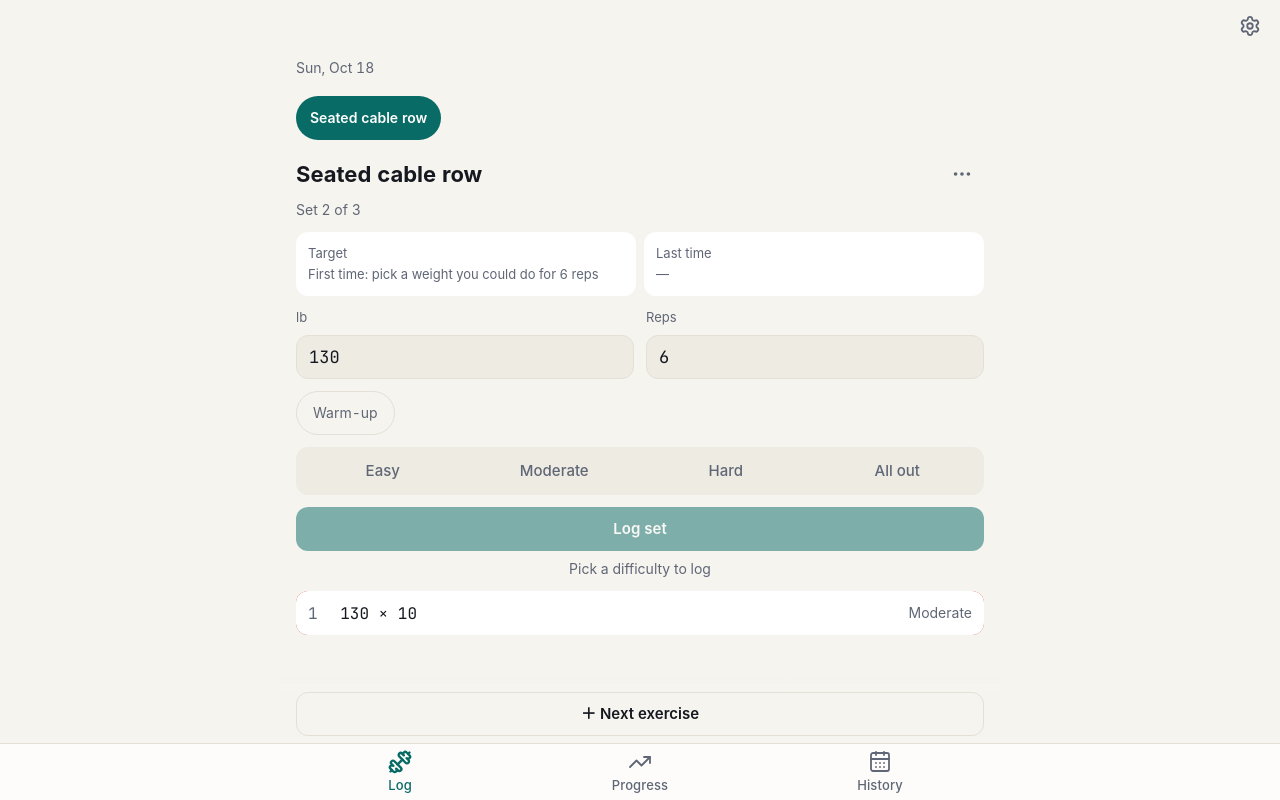
fixing a set › Cancel changes nothing
Click the button "1 130 × 10 Moderate" at (379, 613), box x1=296 y1=591 x2=984 y2=635
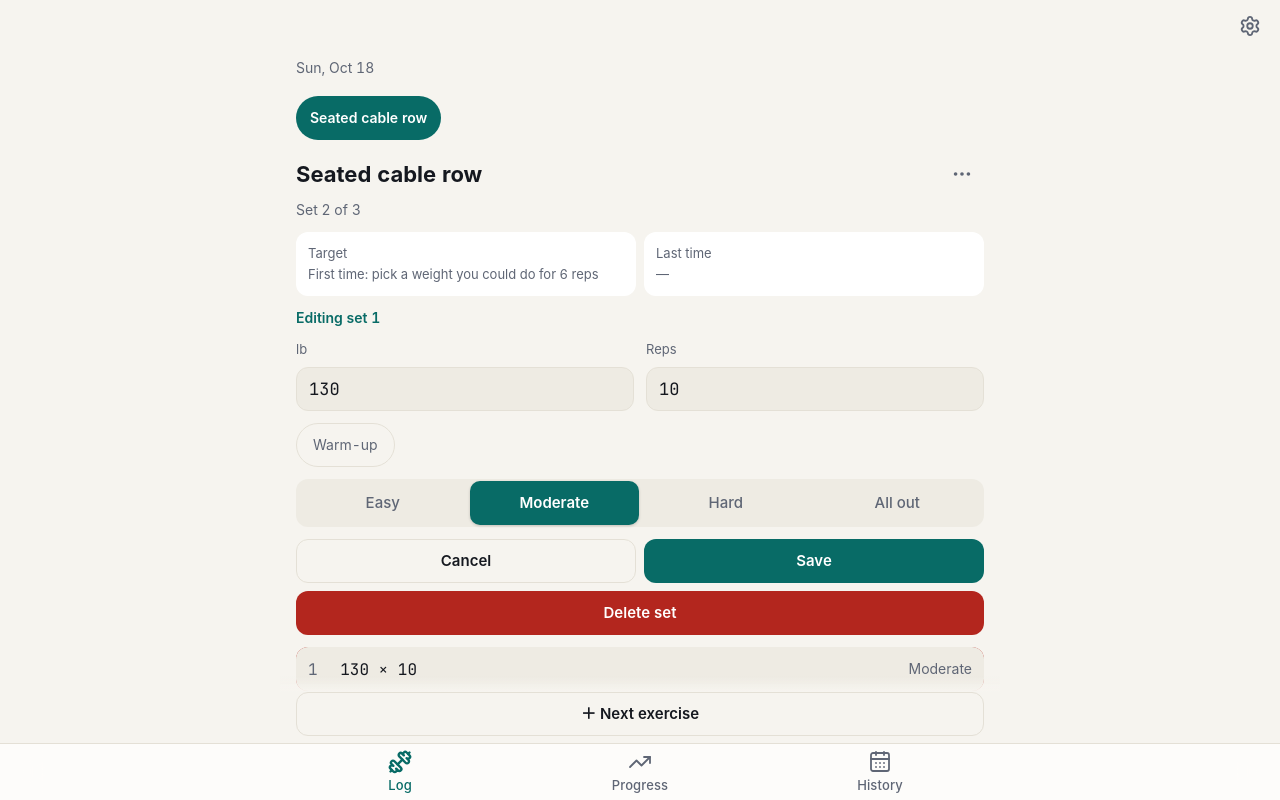
Type "5" into the field labelled "Reps" at (815, 389), box x1=646 y1=367 x2=984 y2=411
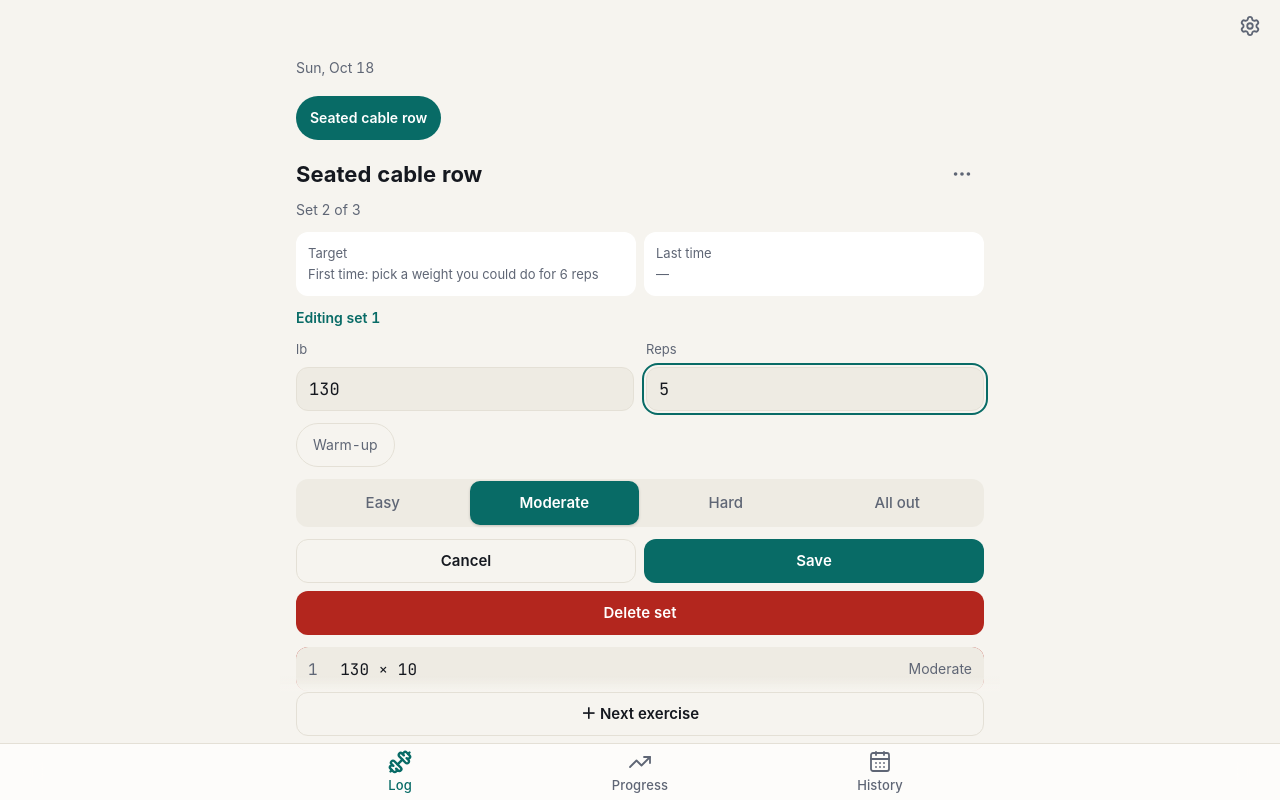
Click the button "Cancel" at (466, 561), box x1=296 y1=539 x2=636 y2=583
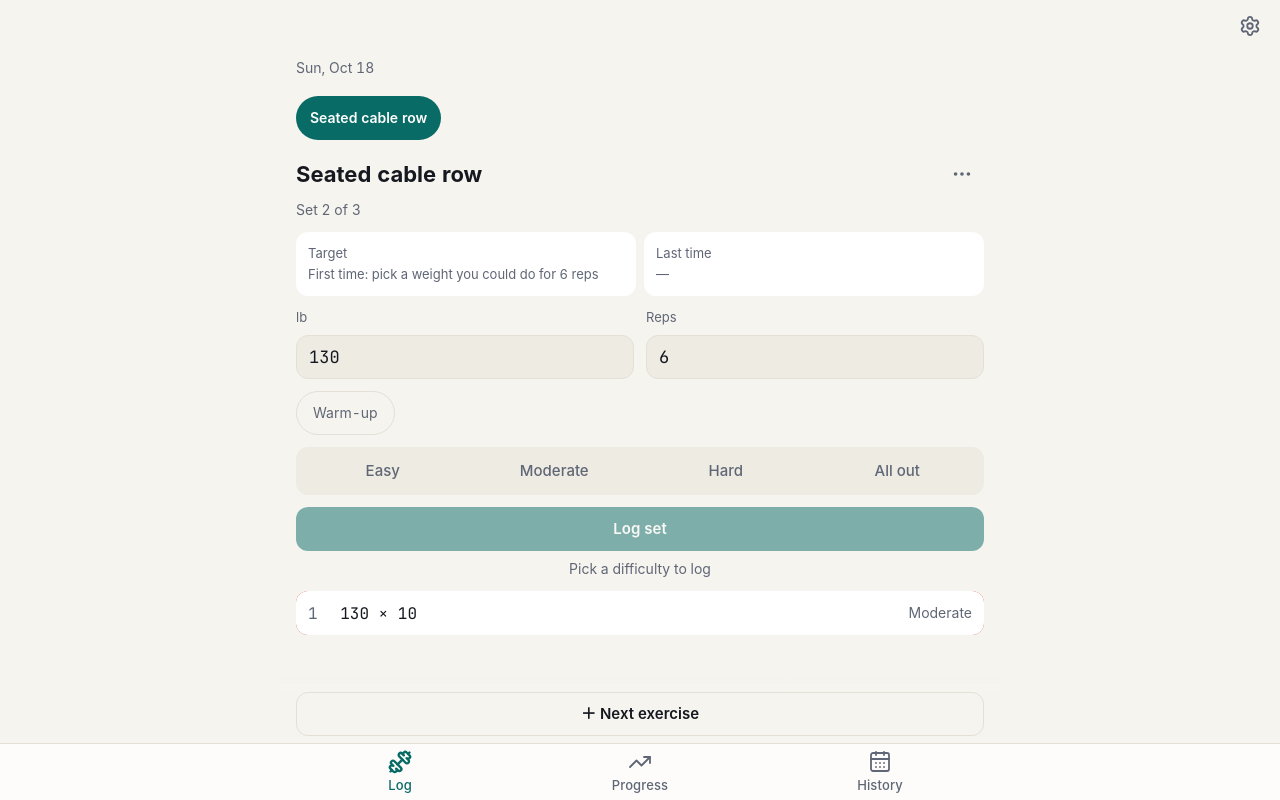
Result: the field labelled "Reps" does not hold "105" at x1=646 y1=335 x2=984 y2=379
